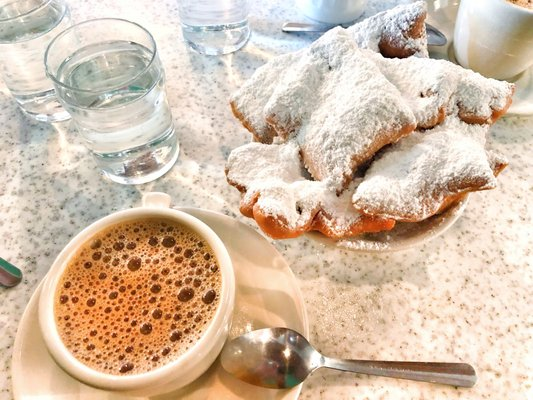pizza: (177, 0, 253, 61)
salad: (218, 326, 478, 400)
soup: (225, 13, 521, 241)
sushi: (36, 206, 237, 397)
